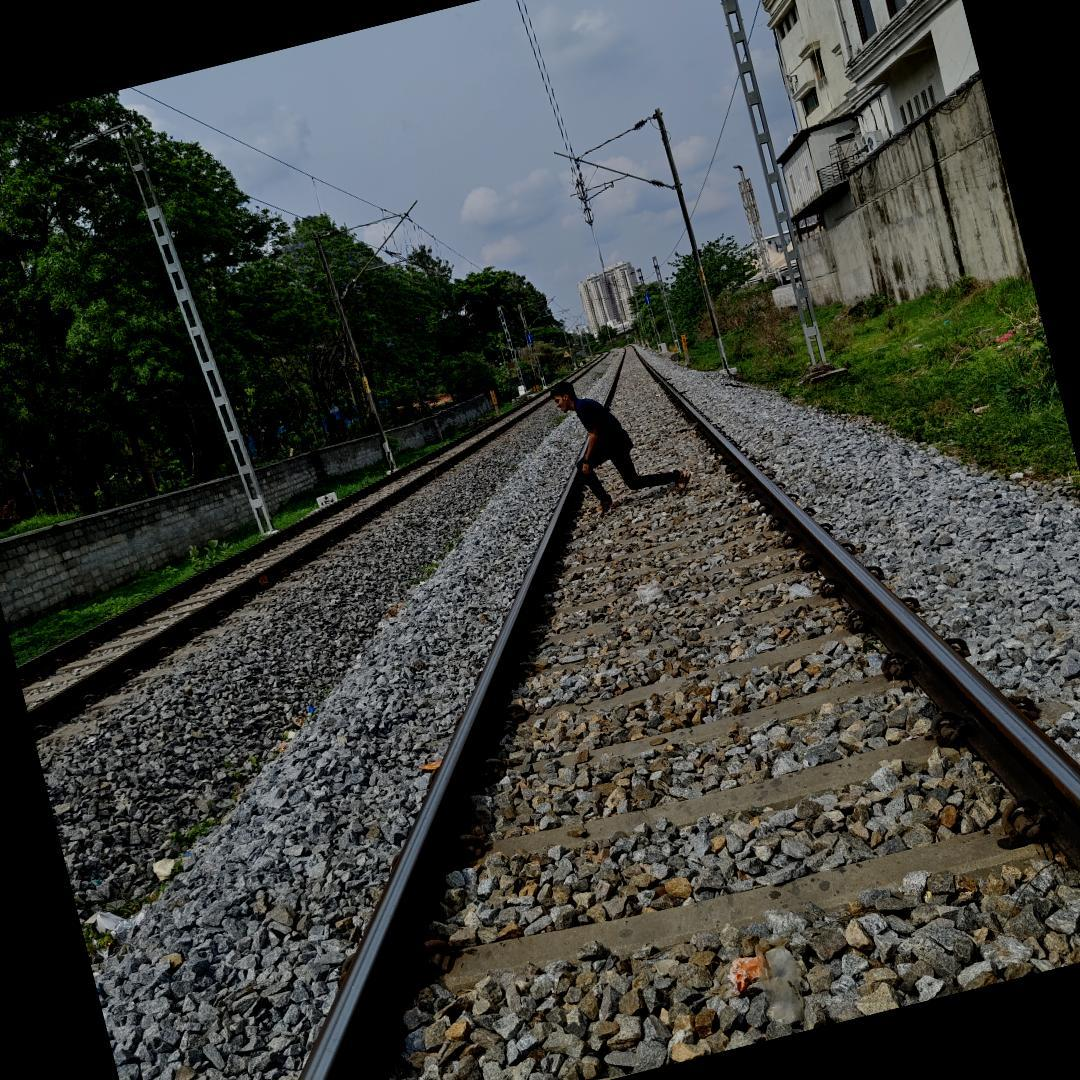sitting: (516, 337, 702, 528)
track: (149, 344, 1080, 1080)
